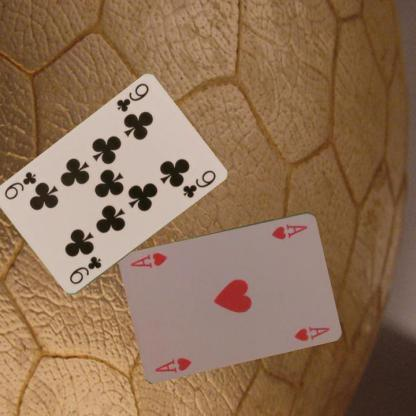9c: (113, 81, 150, 114), (66, 254, 103, 286)
Ah: (153, 354, 193, 374), (269, 221, 309, 240)
